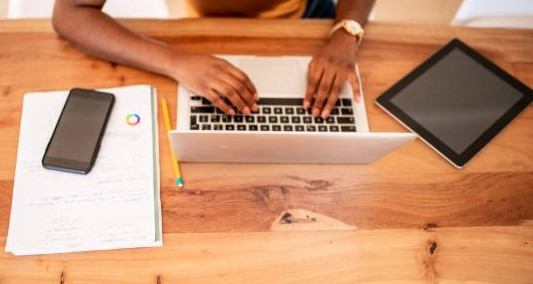keyboard: (188, 93, 358, 132)
laptop: (167, 51, 415, 164)
phone: (375, 37, 532, 168), (41, 87, 116, 176)
